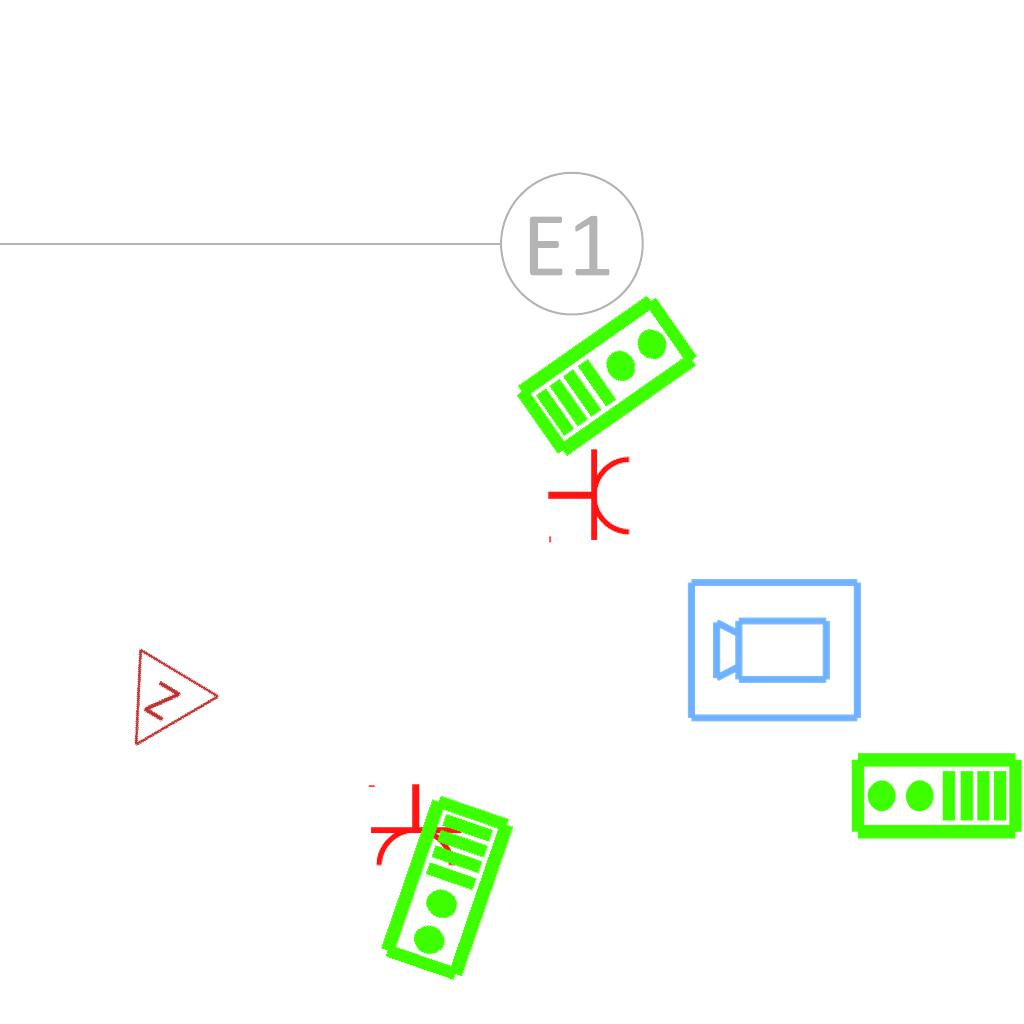Gegensprechanlage_mit_Video: (507, 284, 706, 464), (374, 790, 523, 988), (848, 750, 1024, 845)
KFO_Kamera_mit_Festobjektiv: (684, 572, 866, 726)
Schukosteckdose_einfach: (364, 782, 464, 869), (546, 447, 633, 547)
Zimmersignalleuchte: (91, 640, 227, 778)
